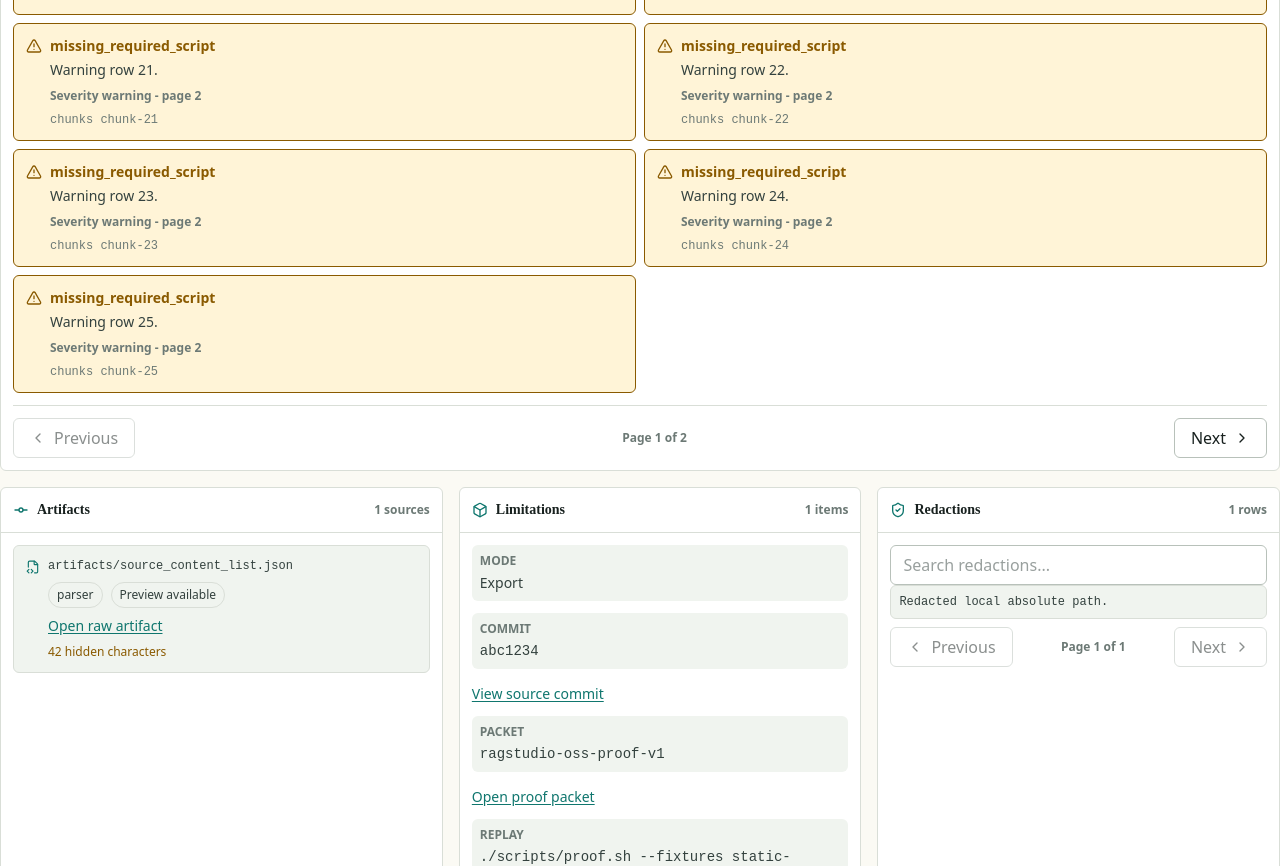
EvidenceInspector › paginates and filters all warning rows separately from decisions
(page scrolled)
Check: the text "needle_warning" is not shown
Click the 1st button "Next" at (1220, 438), box [1174,418,1267,458]
(page scrolled)
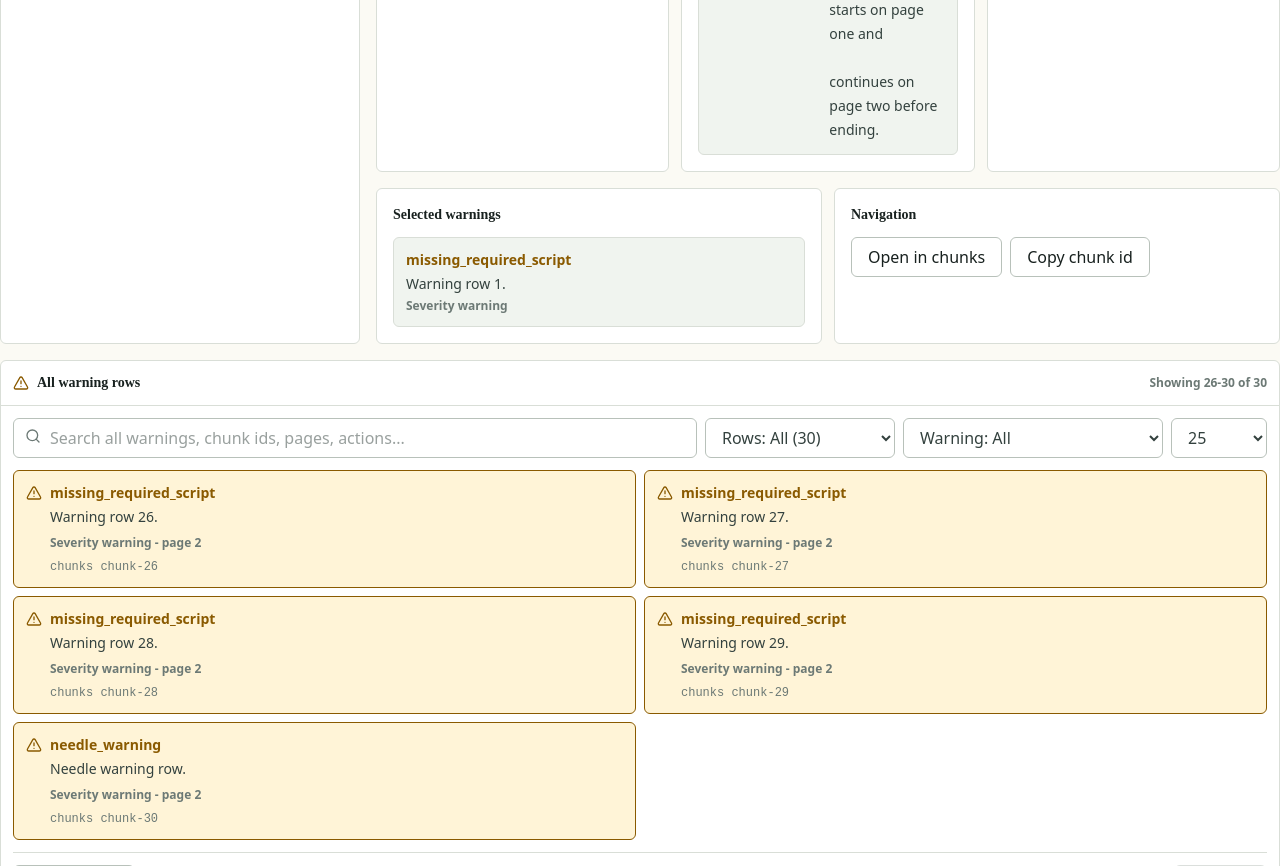
Check: the text "Showing 26-30 of 30" is shown, box [1149,375,1267,391]
Check: the text "needle_warning" is shown, box [50,735,161,754]
Type "needle" into the field labelled "Search all warnings" at (355, 438), box [13,418,697,458]
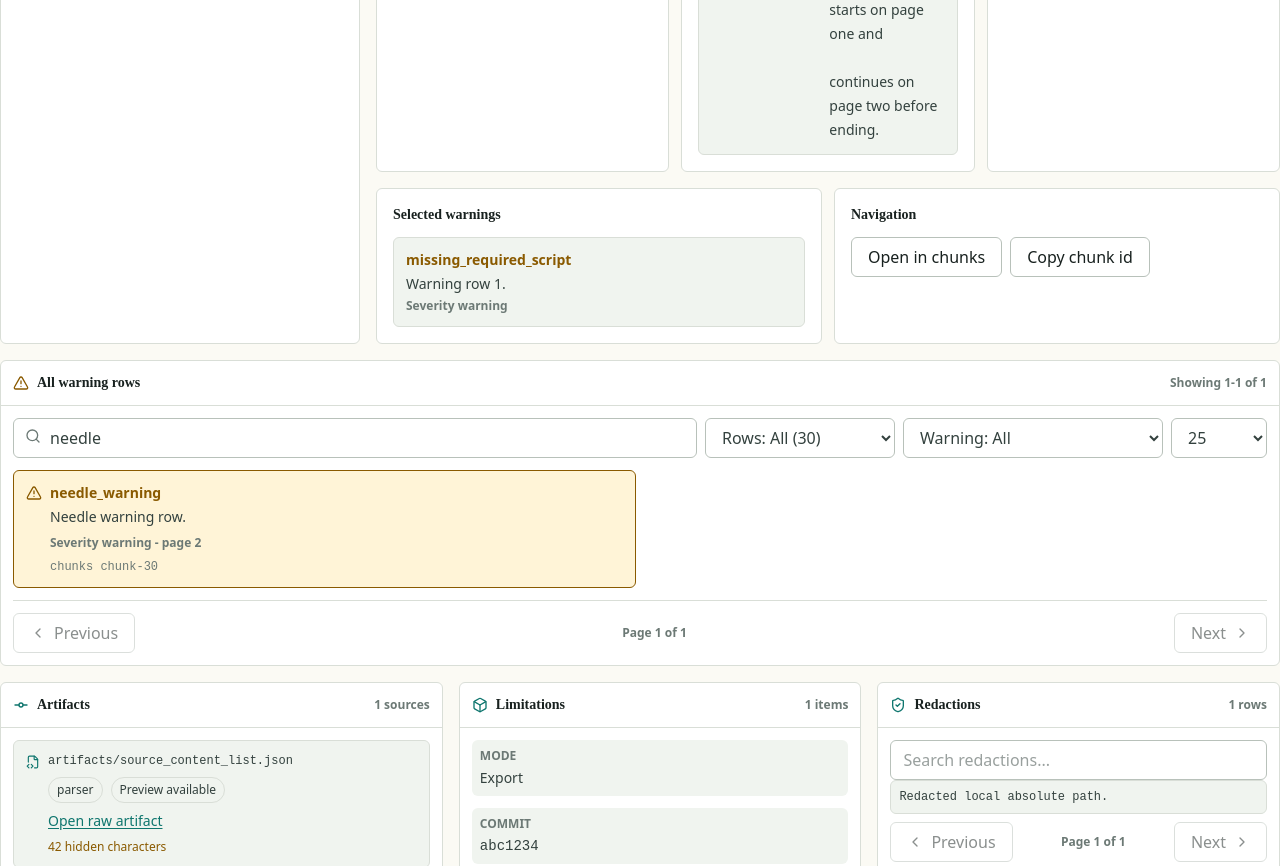
Check: the text "Needle warning row." is shown, box [50,507,186,526]
Check: the text "Showing 1-1 of 1" is shown, box [1170,375,1267,391]
